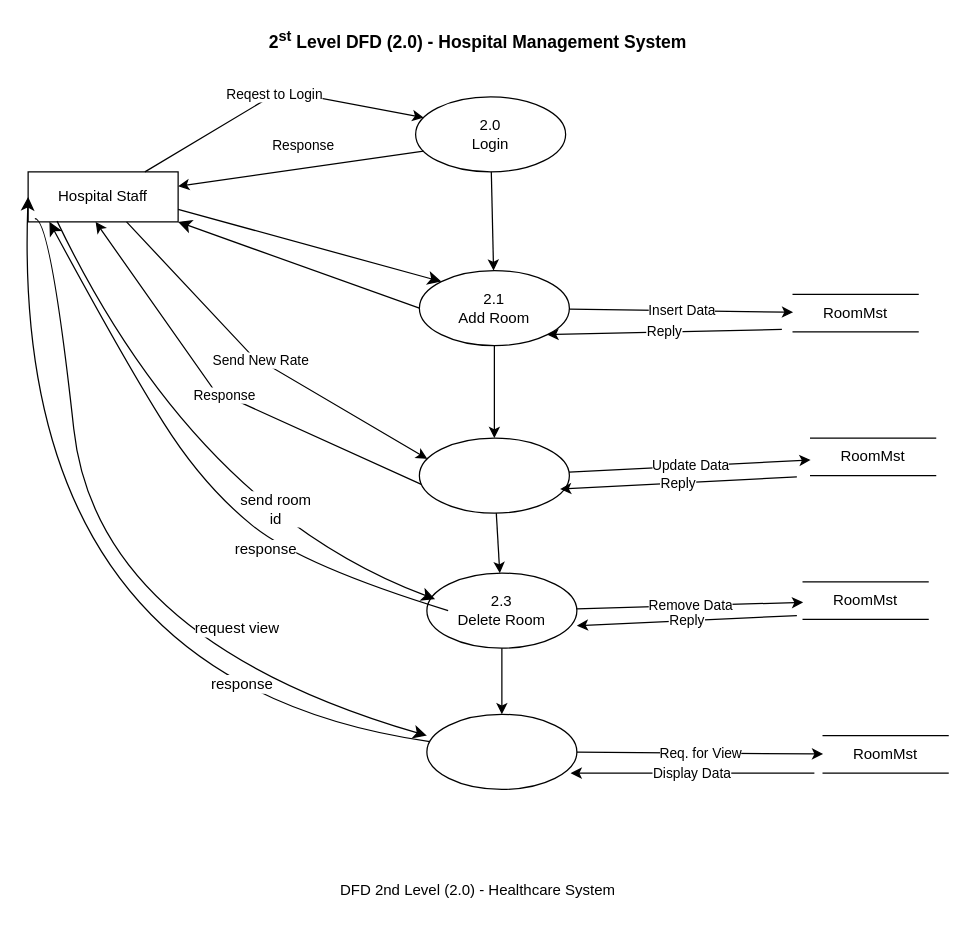
Some shapes in this 970 by 930 pixel diagram are drawn without their labels. The shapes that lost their labels are listed below. From the top down, each one's centre as x and y in pixels, then its label:
At (493,475): "2.2 Update Rate".
At (501,751): "2.4 Reports".
